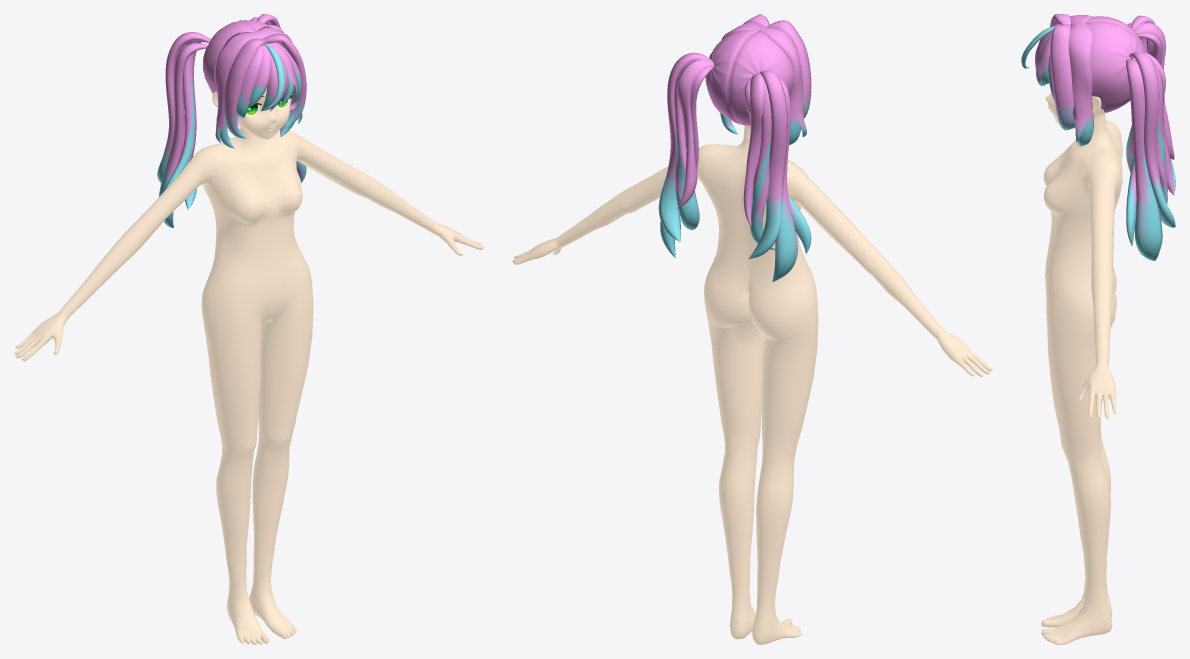
File: mccc.glb
3 views of the same model, side by side, from view 1: azimuth 30°, elevation 25°; view 2: azimuth 150°, elevation 25°; view 3: azimuth 270°, elevation 25° (orthographic). The views are drawn at different scales.
Visible parts, largest first — view 1: Cylinder.003, NurbsPath.007, NurbsPath.001, NurbsPath.002, Face, Sphere.001; view 2: Cylinder.003, NurbsPath.007, Sphere.001, NurbsPath.001; view 3: Cylinder.003, NurbsPath.007, NurbsPath.001, Sphere.001, NurbsPath.002, NurbsPath.003, Face.
Boxes of the visible parts, x1,y1,x2,y2 form: Cylinder.003: (14, 127, 483, 644); NurbsPath.007: (157, 14, 306, 227); NurbsPath.001: (214, 26, 306, 148); NurbsPath.002: (236, 42, 301, 117); Face: (237, 88, 292, 139); Sphere.001: (203, 20, 272, 93); Cylinder.003: (512, 125, 992, 644); NurbsPath.007: (658, 52, 811, 281); Sphere.001: (705, 29, 793, 125); NurbsPath.001: (719, 14, 811, 145); Cylinder.003: (1041, 113, 1122, 644); NurbsPath.007: (1126, 15, 1175, 260); NurbsPath.001: (1050, 14, 1094, 146); Sphere.001: (1086, 16, 1145, 112); NurbsPath.002: (1035, 23, 1060, 100); NurbsPath.003: (1021, 26, 1055, 68); Face: (1045, 93, 1105, 123).
Bounding box in the file's own units: 1.25 × 1.53 × 0.3499.
Materials: 9 (6 with a texture image).
